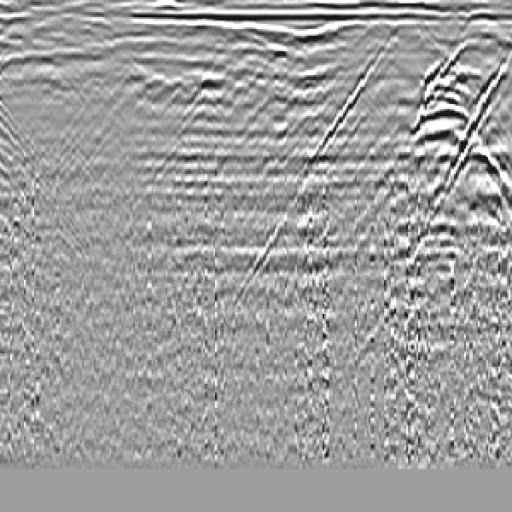metalic: (417, 49, 512, 247)
non-metallic: (240, 1, 512, 303), (366, 56, 512, 241)
